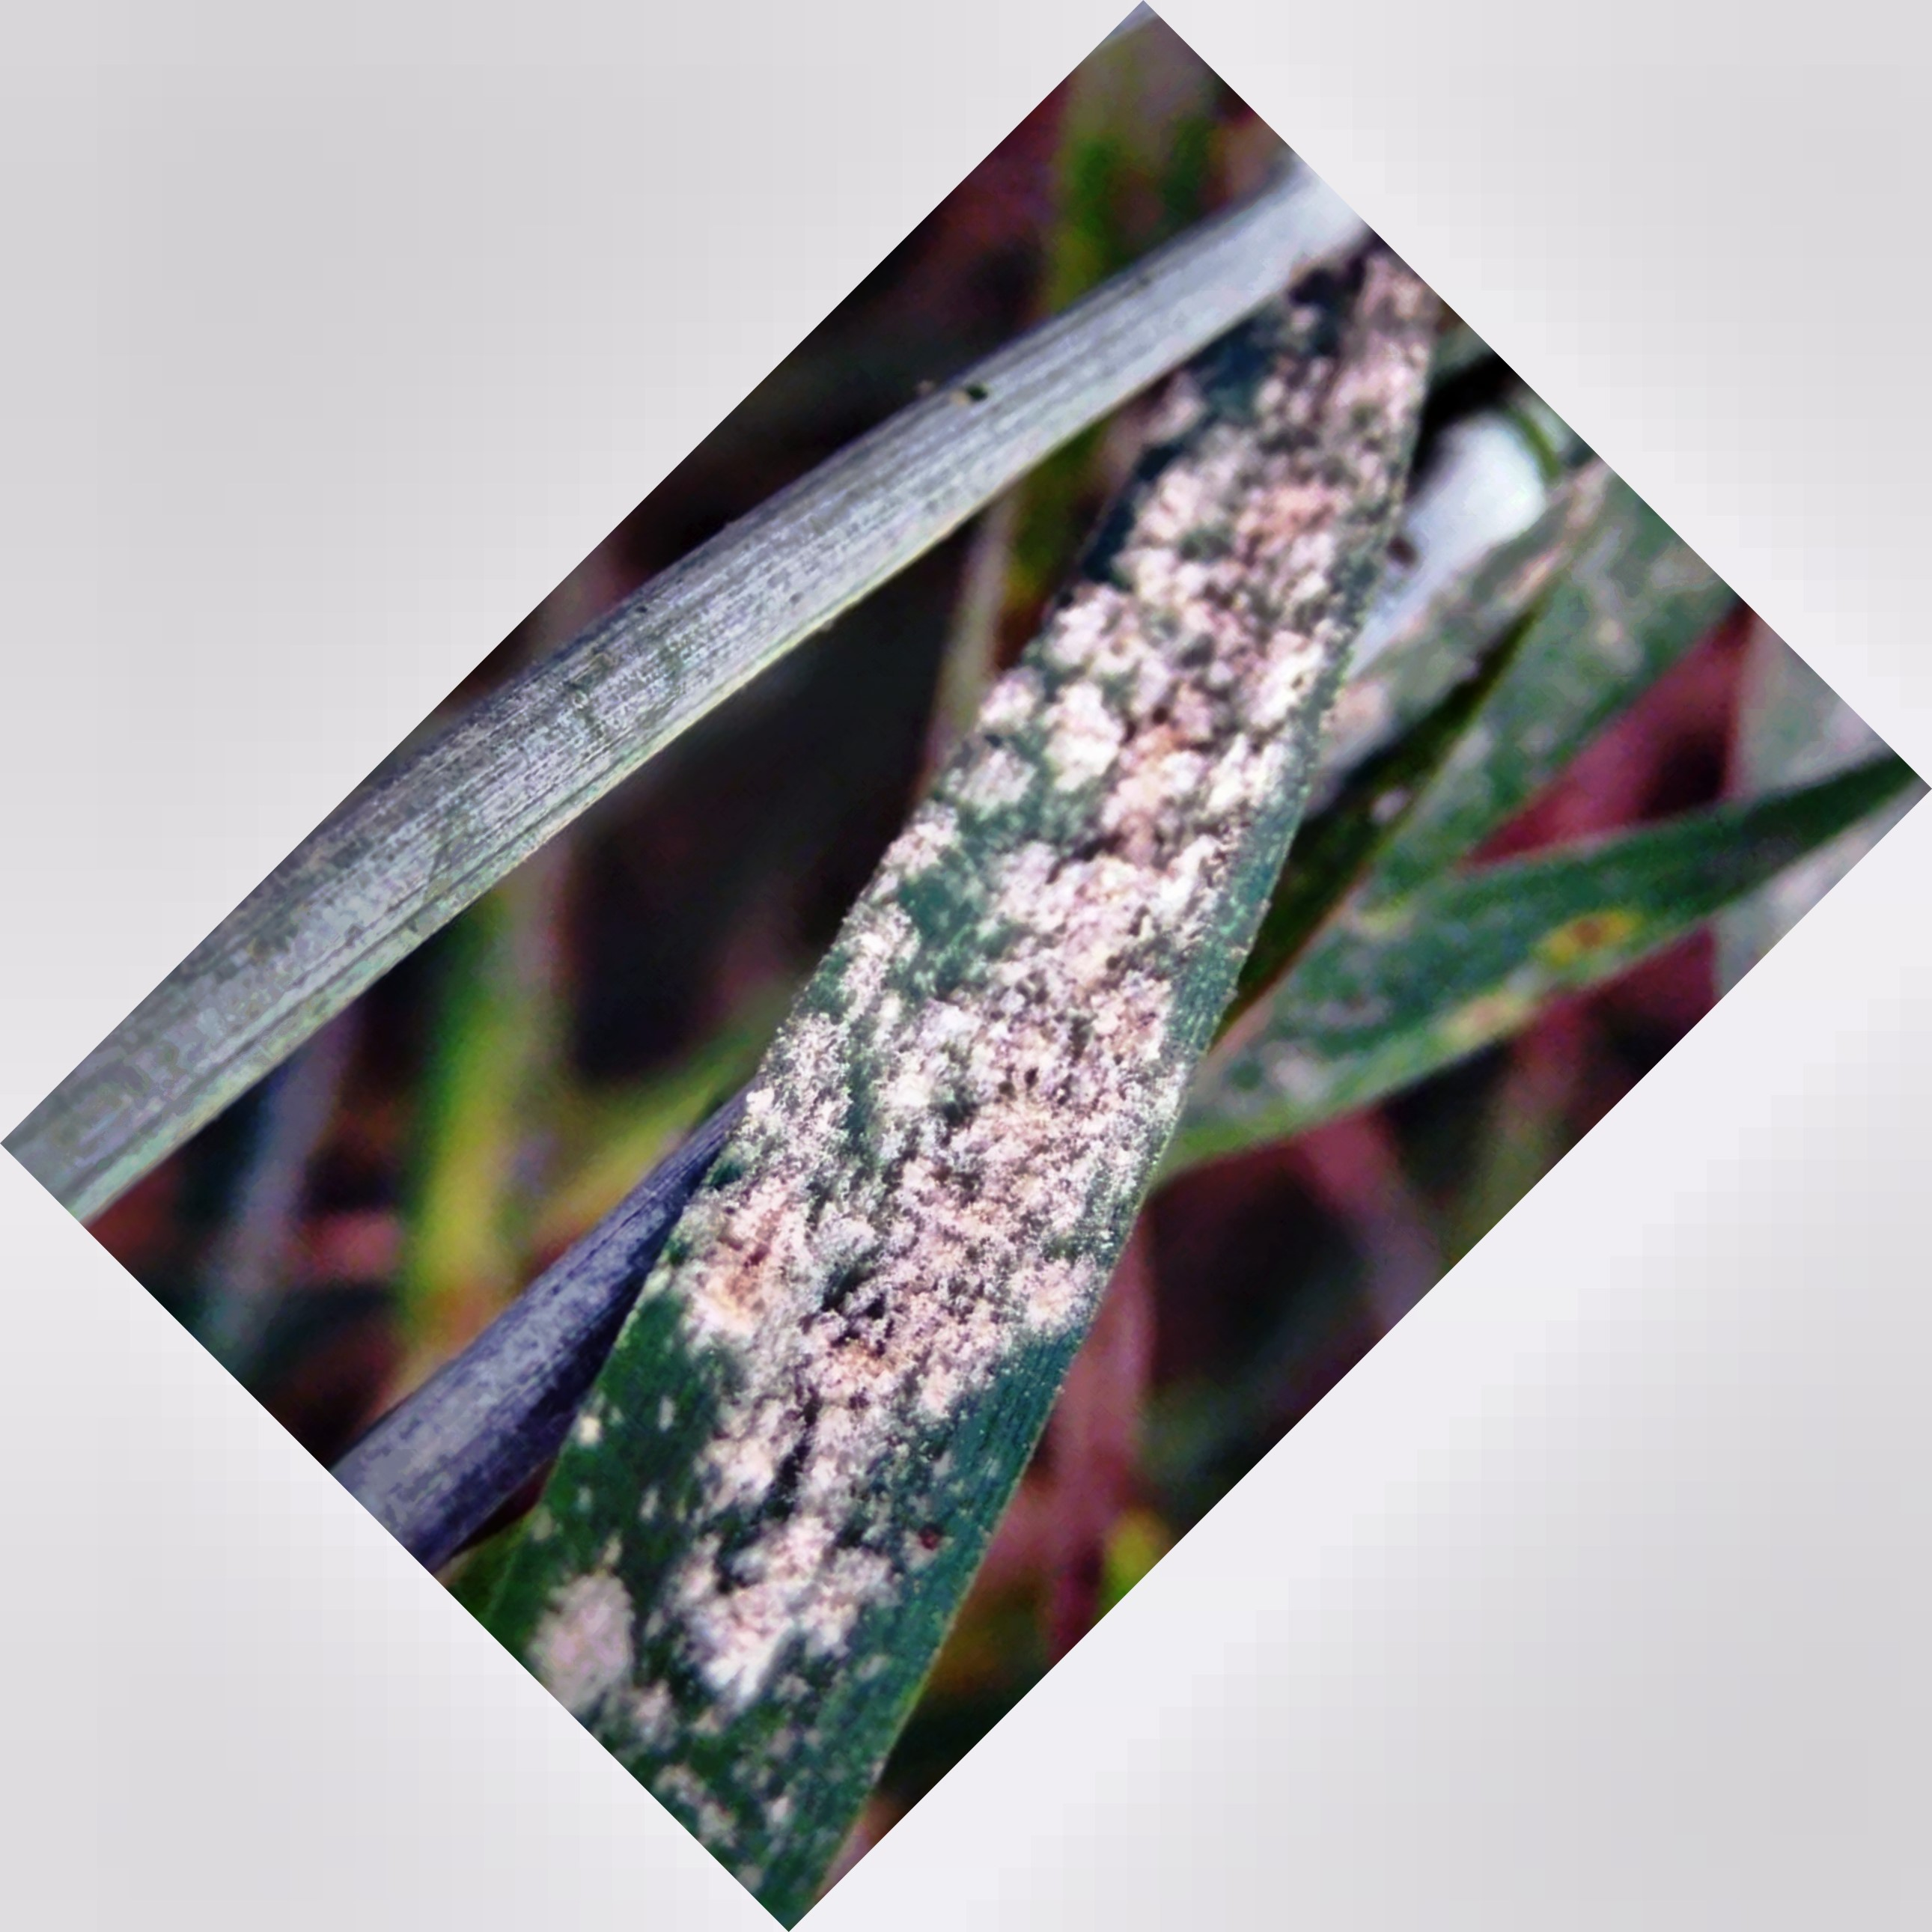Powdery Mildew: (678, 389, 1366, 1626)
